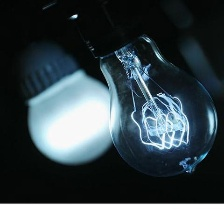light_bulb: (92, 17, 221, 183), (15, 31, 120, 167)
